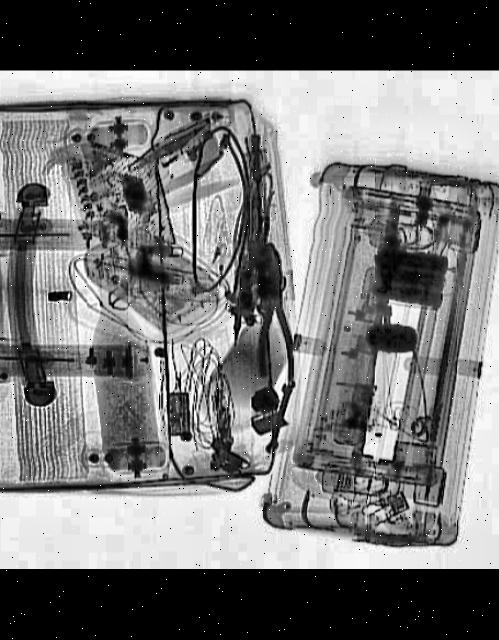Pliers: (246, 244, 294, 384)
Wrench: (260, 381, 294, 456)
